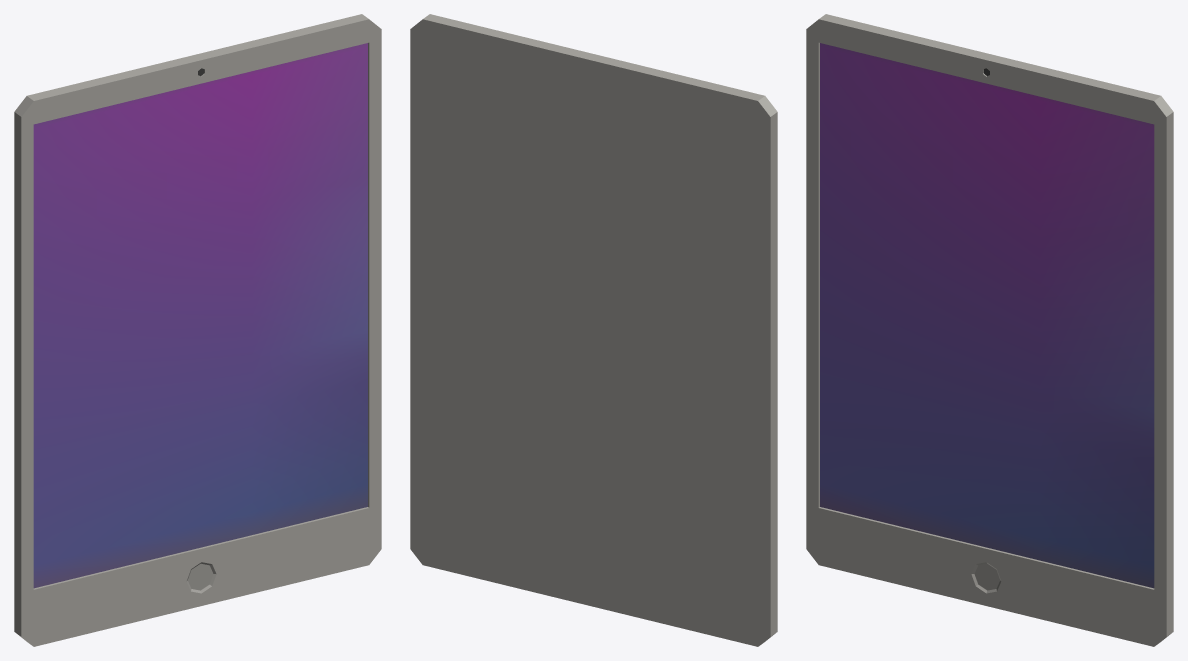
The model's file is SM_Props_Interior_Shop_Electronic_Tab.fbx.
The picture shows the model from 3 angles, left to right: view 1: azimuth 30°, elevation 25°; view 2: azimuth 150°, elevation 25°; view 3: azimuth 330°, elevation 25°; orthographic projection.
Visible parts, largest first — view 1: SM_Props_Interior_Shop_Electronic_Tab; view 2: SM_Props_Interior_Shop_Electronic_Tab; view 3: SM_Props_Interior_Shop_Electronic_Tab.
Boxes of the visible parts, x1=… form: SM_Props_Interior_Shop_Electronic_Tab: x1=14, y1=14, x2=381, y2=646; SM_Props_Interior_Shop_Electronic_Tab: x1=410, y1=14, x2=777, y2=646; SM_Props_Interior_Shop_Electronic_Tab: x1=806, y1=14, x2=1173, y2=646.
Size of the model in its own units: 14.5 by 21 by 0.5.
